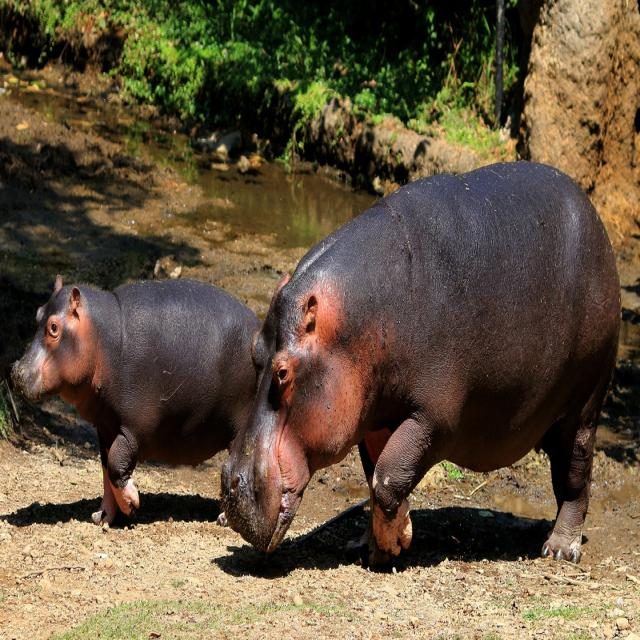Hippopotamus: (219, 156, 627, 577), (12, 274, 250, 543)
